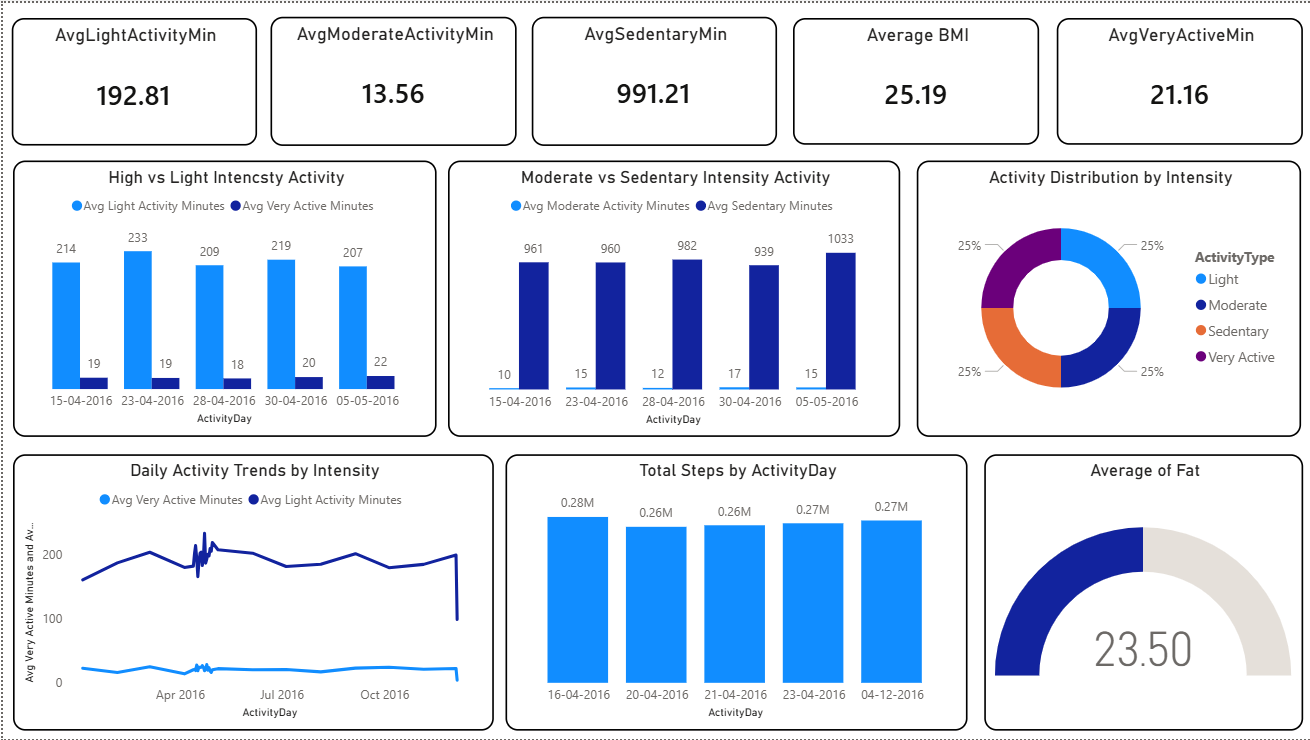

What the dashboard file says about the page in this screenshot:
{"tool":"powerbi","page":{"name":"3. Fitness & Health Indicators Dashboard","canvas":[1280,720],"ordinal":2},"visuals":[{"type":"cardVisual","title":"AvgSedentaryMin","fields":{"Data":["dailyIntensities_merged.Avg Sedentary Minutes"]},"box":[517,13.6,239.8,126.1],"z":0},{"type":"cardVisual","title":"AvgModerateActivityMin","fields":{"Data":["dailyIntensities_merged.Avg Moderate Activity Minutes"]},"box":[262.2,13.6,241,126.1],"z":1000},{"type":"cardVisual","title":"Average BMI","fields":{"Data":["weightLogInfo_merged1.Average BMI"]},"box":[773,14.9,241,123.6],"z":2000},{"type":"cardVisual","title":"AvgLightActivityMin","fields":{"Data":["dailyIntensities_merged.Avg Light Activity Minutes"]},"box":[8.7,14.2,239.8,124.9],"z":3000},{"type":"cardVisual","title":"AvgVeryActiveMin","fields":{"Data":["dailyIntensities_merged.Avg Very Active Minutes"]},"box":[1030.2,14.9,241,123.6],"z":4000},{"type":"clusteredColumnChart","title":"High vs Light Intencsty Activity","fields":{"Category":["dailyIntensities_merged.ActivityDay"],"Y":["dailyIntensities_merged.Avg Light Activity Minutes","dailyIntensities_merged.Avg Very Active Minutes"]},"box":[9.2,153.6,414.8,270],"z":5000},{"type":"donutChart","title":"Activity Distribution by Intensity","fields":{"Category":["ActivityType.ActivityType"],"Y":["Sum(dailyIntensities_merged.LightlyActiveMinutes)"]},"box":[894.1,153.6,376.4,270.4],"z":6000},{"type":"lineChart","title":"Daily Activity Trends by Intensity","fields":{"Category":["dailyIntensities_merged.ActivityDay"],"Y":["dailyIntensities_merged.Avg Very Active Minutes","dailyIntensities_merged.Avg Light Activity Minutes"]},"box":[9.2,441.4,470.1,270],"z":7000},{"type":"clusteredColumnChart","title":"Moderate vs Sedentary Intensity Activity","fields":{"Category":["dailyIntensities_merged.ActivityDay"],"Y":["dailyIntensities_merged.Avg Moderate Activity Minutes","dailyIntensities_merged.Avg Sedentary Minutes"]},"box":[434.8,153.6,442.4,270.4],"z":8000},{"type":"gauge","fields":{"Y":["Avg(weightLogInfo_merged1.Fat)"]},"box":[960.2,441.4,311.9,270],"z":9000},{"type":"columnChart","fields":{"Category":["dailySteps_merged.ActivityDay"],"Y":["dailySteps_merged.Total Steps"]},"box":[491.6,441.4,451.7,270],"z":10000}]}

Visuals, with their boxes in screenshot pixels (x1, y1, x2, y2), scaled from the page's 1280x720 canvas onto the 1310x740 screenshot:
"AvgSedentaryMin" cardVisual: BBox(529, 14, 775, 144)
"AvgModerateActivityMin" cardVisual: BBox(268, 14, 515, 144)
"Average BMI" cardVisual: BBox(791, 15, 1038, 142)
"AvgLightActivityMin" cardVisual: BBox(9, 15, 254, 143)
"AvgVeryActiveMin" cardVisual: BBox(1054, 15, 1301, 142)
"High vs Light Intencsty Activity" clusteredColumnChart: BBox(9, 158, 434, 435)
"Activity Distribution by Intensity" donutChart: BBox(915, 158, 1300, 436)
"Daily Activity Trends by Intensity" lineChart: BBox(9, 454, 491, 731)
"Moderate vs Sedentary Intensity Activity" clusteredColumnChart: BBox(445, 158, 898, 436)
gauge - Avg(weightLogInfo_merged1.Fat): BBox(983, 454, 1302, 731)
columnChart - dailySteps_merged.ActivityDay x dailySteps_merged.Total Steps: BBox(503, 454, 965, 731)
